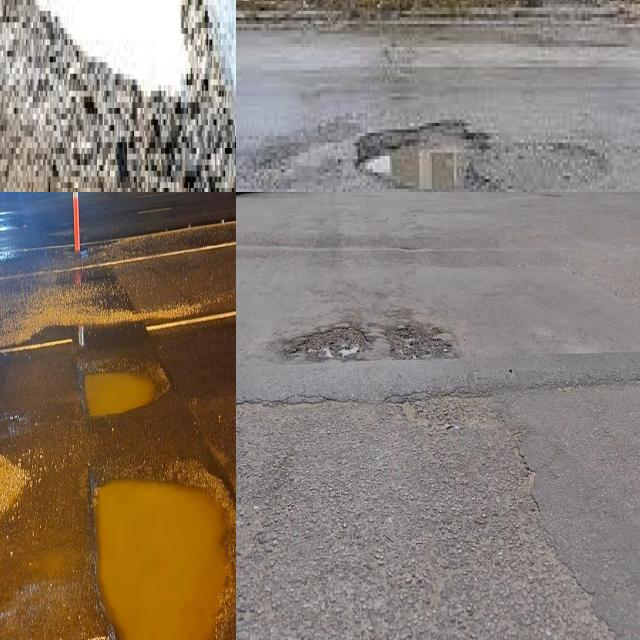Pothole: (30, 0, 236, 192), (97, 481, 228, 640), (167, 461, 236, 635), (355, 126, 474, 192), (84, 372, 156, 416), (290, 320, 368, 359), (383, 315, 452, 359)
